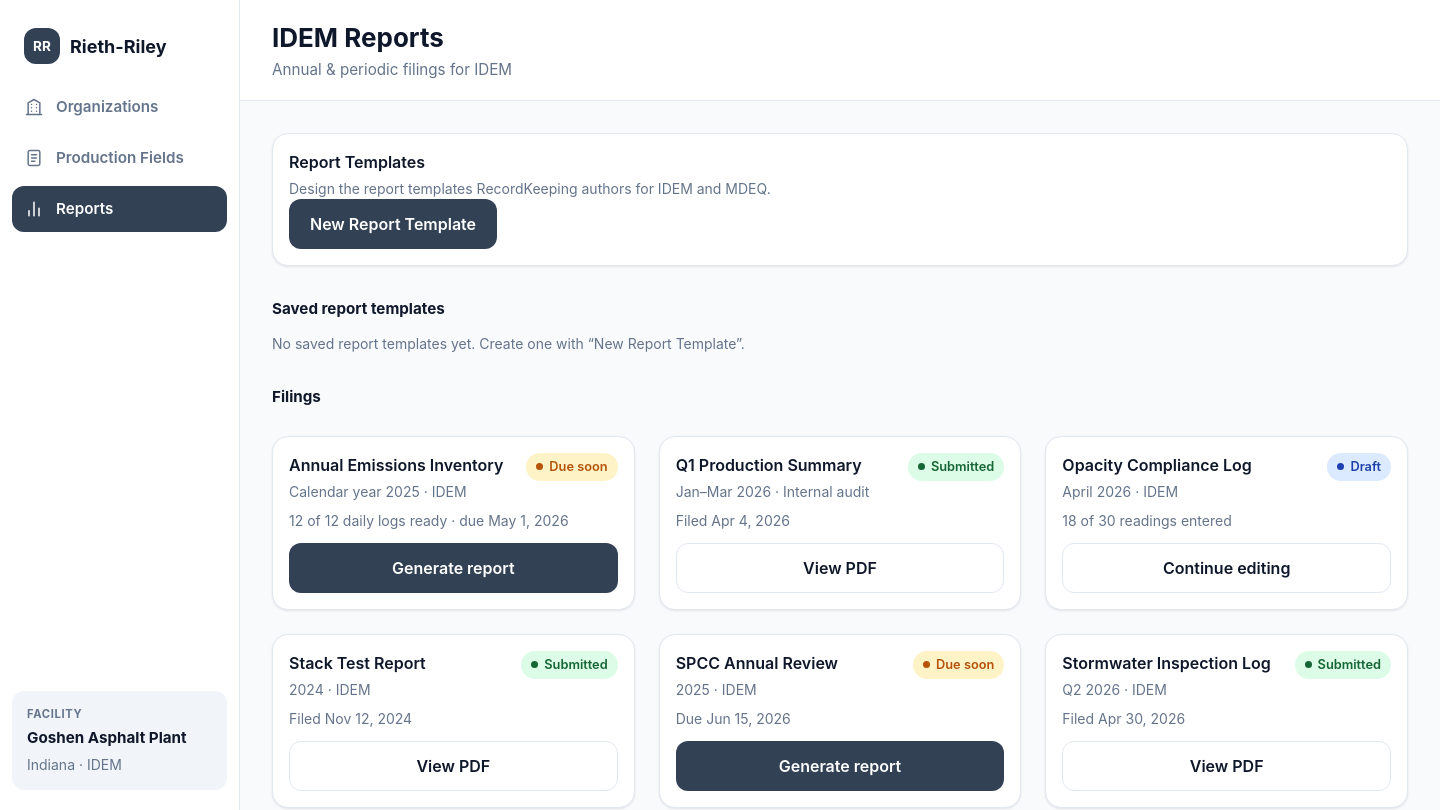
it: AppShell — Report Builder (SiteAdmin only, I-D13) › opens the builder from the Reports screen for a SiteAdmin
The width and height of the screenshot is (1440, 810).
Click the button "New Report Template".
click(393, 224)  # box [289,199,497,249]
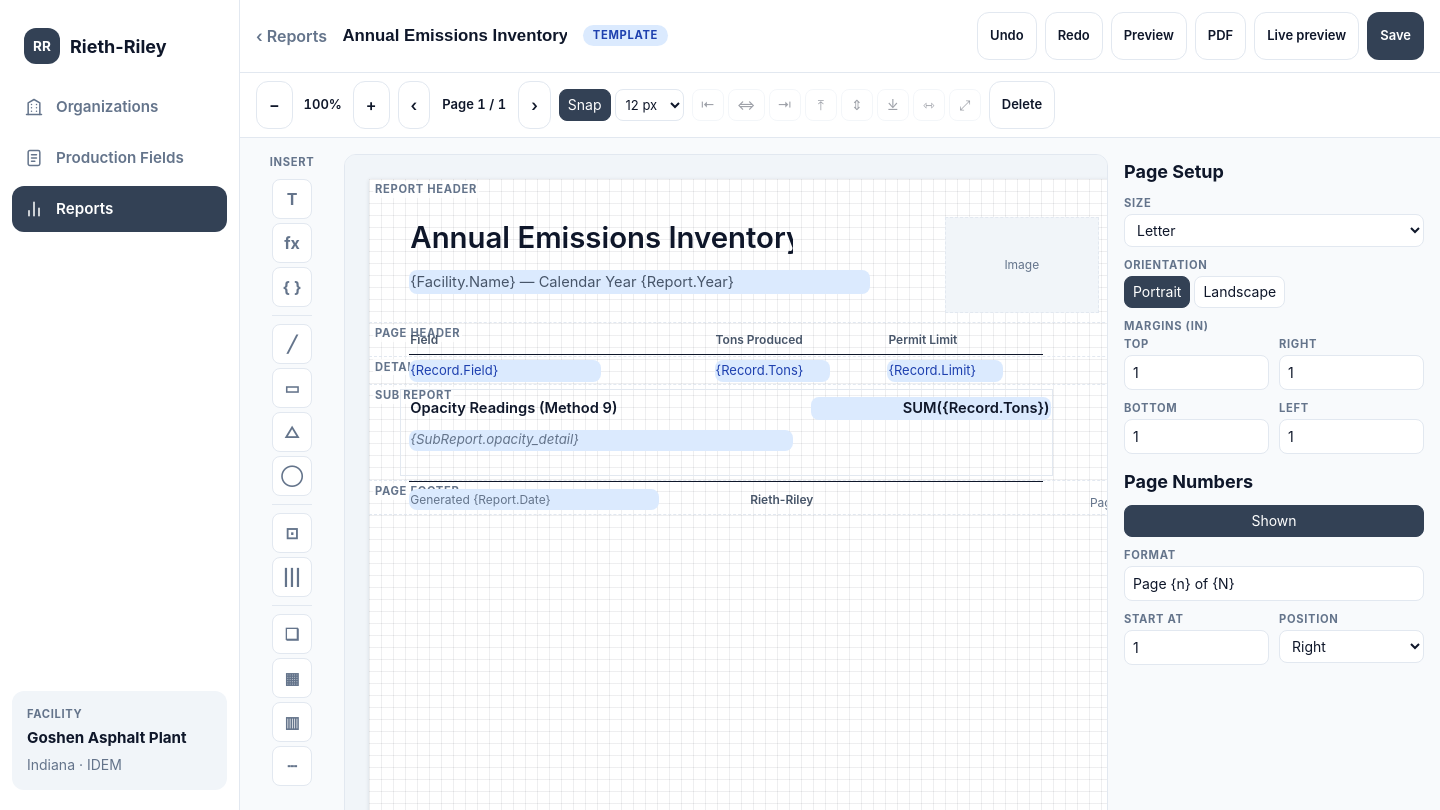
Expected: the element named "Report builder tools" is shown, [240,73,1439,138]
